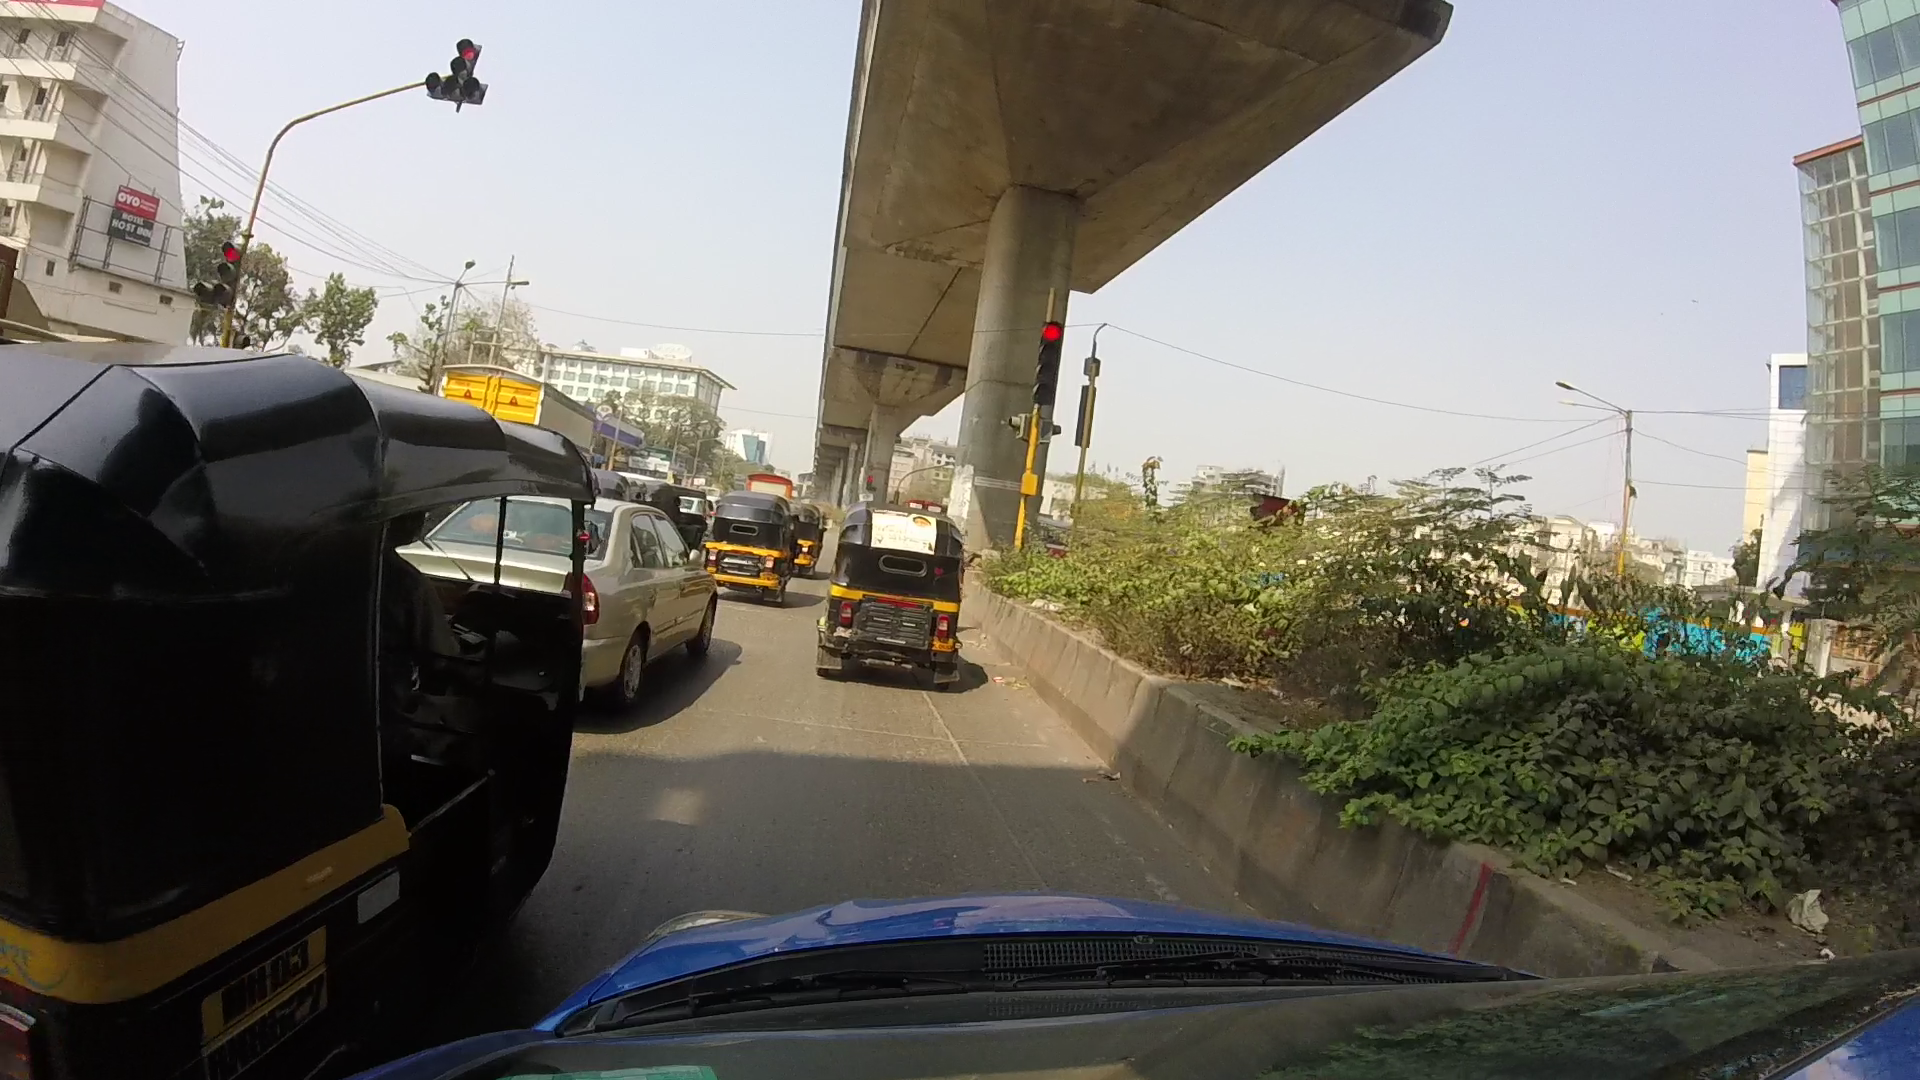car: (405, 483, 725, 707)
rickshaw: (11, 356, 593, 1079), (802, 504, 975, 674), (696, 487, 802, 601)
